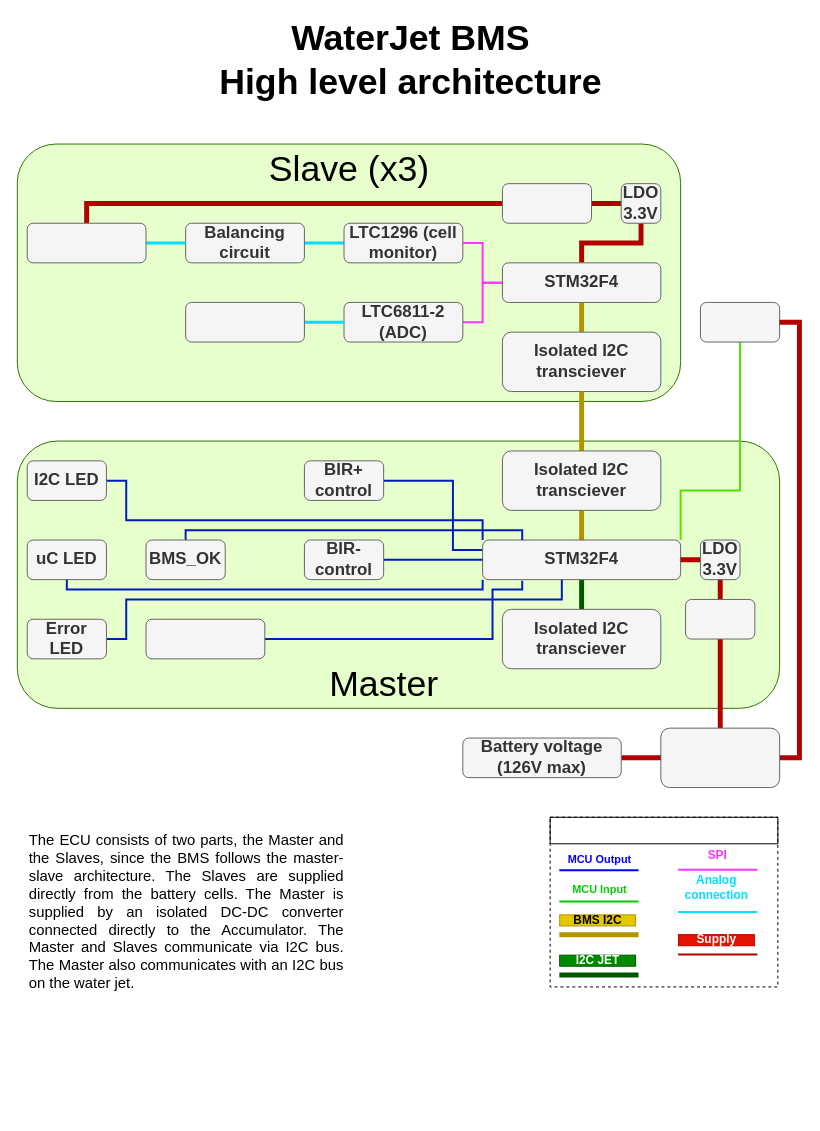
Some shapes in this 820 by 1131 pixel diagram are drawn without their labels. Each missing label, with the box of its shape:
current sensor: (699, 301, 780, 342)
DC-DC (9-72V to 5V): (501, 183, 592, 223)
DC-DC 12 to 5V: (685, 598, 755, 639)
Isolated DC-DC (50 - 250V to 12V): (660, 727, 780, 788)
Legend: (549, 816, 778, 844)
NTCs (up to 8): (185, 301, 304, 342)
Precharge relay control: (145, 618, 265, 659)
Up to 12 cells: (26, 222, 146, 263)
